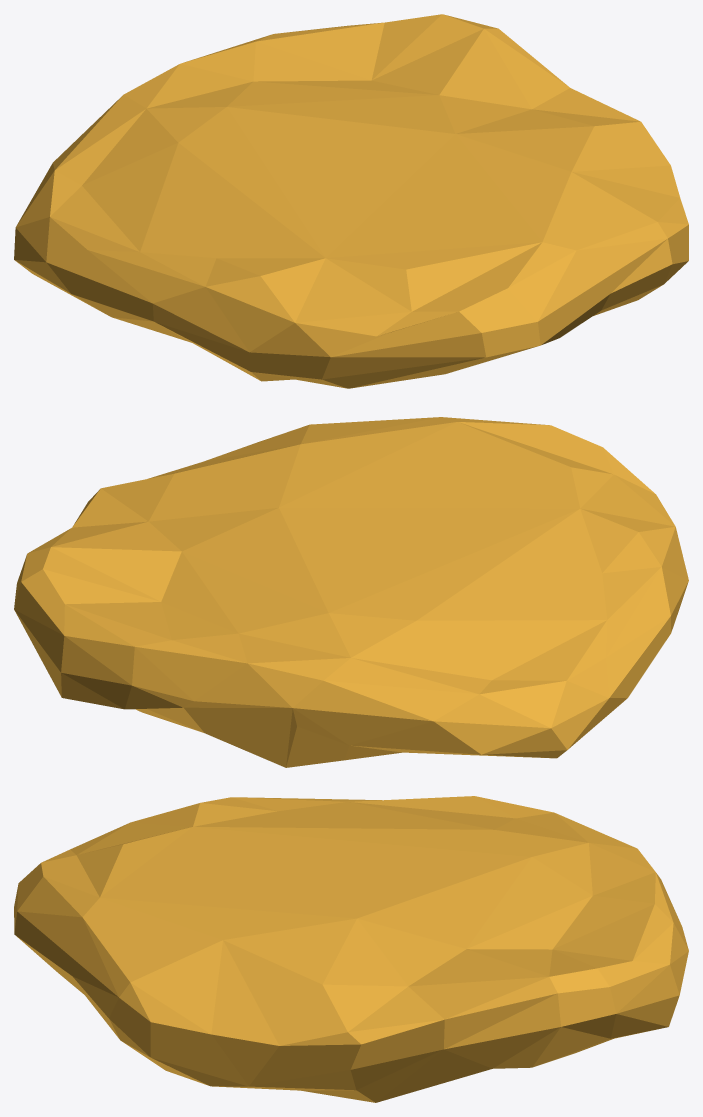
Rendered from DesertHomePlanetoid.fbx.
3 renders of one model, top to bottom at view 1: azimuth 30°, elevation 25°; view 2: azimuth 150°, elevation 25°; view 3: azimuth 270°, elevation 25°, orthographic. The views are drawn at different scales.
Parts seen in each view (by area): view 1: DesertHomePlanetoid; view 2: DesertHomePlanetoid; view 3: DesertHomePlanetoid.
Boxes of the visible parts, x1,y1,x2,y2 form: DesertHomePlanetoid: (14, 14, 688, 388); DesertHomePlanetoid: (14, 417, 688, 767); DesertHomePlanetoid: (14, 796, 688, 1102).
Bounding box in the file's own units: 16.61 × 4.64 × 17.96.
